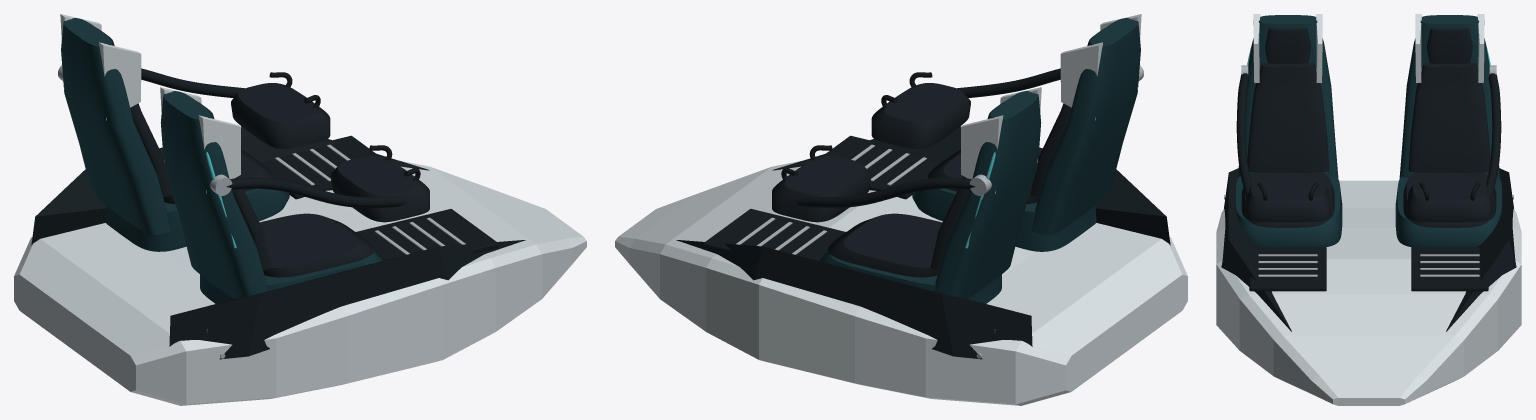
The model's file is train_car_runtime.glb.
The picture shows the model from 3 angles, left to right: view 1: azimuth 30°, elevation 25°; view 2: azimuth 150°, elevation 25°; view 3: azimuth 270°, elevation 25°; orthographic projection. The views are drawn at different scales.
Visible parts, largest first — view 1: VCTrain5_SM_TrainCar_Assembled; view 2: VCTrain5_SM_TrainCar_Assembled; view 3: VCTrain5_SM_TrainCar_Assembled.
Part boxes in pixels (bbox=[...]): VCTrain5_SM_TrainCar_Assembled: bbox=[14, 14, 586, 405]; VCTrain5_SM_TrainCar_Assembled: bbox=[615, 14, 1187, 405]; VCTrain5_SM_TrainCar_Assembled: bbox=[1216, 14, 1521, 405].
Bounding box in the file's own units: 2.55 × 1.41 × 1.7.
